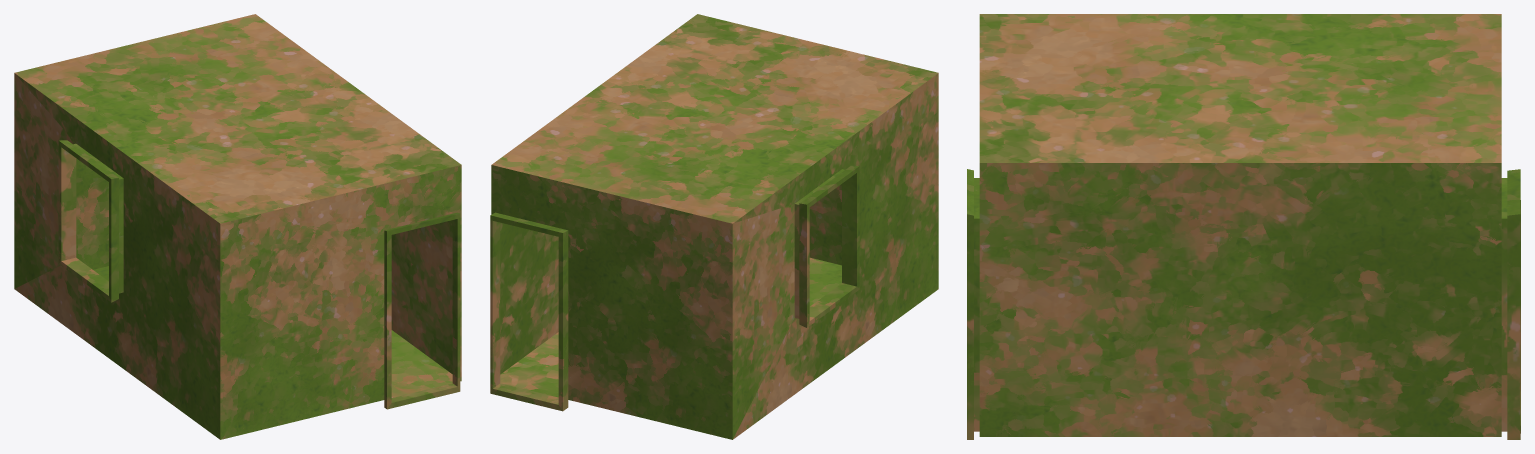
The model's file is KitchenBox.fbx.
3 renders of one model, left to right at view 1: azimuth 30°, elevation 25°; view 2: azimuth 150°, elevation 25°; view 3: azimuth 270°, elevation 25°, orthographic. The views are drawn at different scales.
Visible parts, largest first — view 1: Ceiling, Wall1, Wall2, Wall4, Wall3, Floor; view 2: Ceiling, Wall3, Wall2, Wall4, Floor, Wall1; view 3: Wall4, Ceiling, Wall3, Wall1.
Boxes of the visible parts, left/top/right/bottom form: Ceiling: left=14, top=14, right=461, bottom=223; Wall1: left=220, top=165, right=461, bottom=439; Wall2: left=14, top=73, right=220, bottom=439; Wall4: left=391, top=220, right=452, bottom=373; Wall3: left=76, top=158, right=108, bottom=269; Floor: left=93, top=266, right=452, bottom=397; Ceiling: left=491, top=14, right=938, bottom=223; Wall3: left=490, top=165, right=732, bottom=439; Wall2: left=732, top=73, right=938, bottom=439; Wall4: left=500, top=222, right=558, bottom=374; Floor: left=500, top=257, right=841, bottom=397; Wall1: left=809, top=184, right=841, bottom=265; Wall4: left=979, top=163, right=1501, bottom=436; Ceiling: left=979, top=14, right=1501, bottom=162; Wall3: left=1501, top=169, right=1520, bottom=439; Wall1: left=967, top=169, right=979, bottom=439.
Size of the model in its own units: 61.66 by 50.98 by 91.13.
